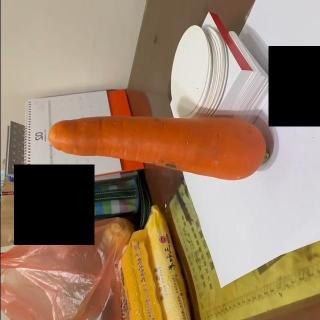carrot: (49, 115, 269, 182)
